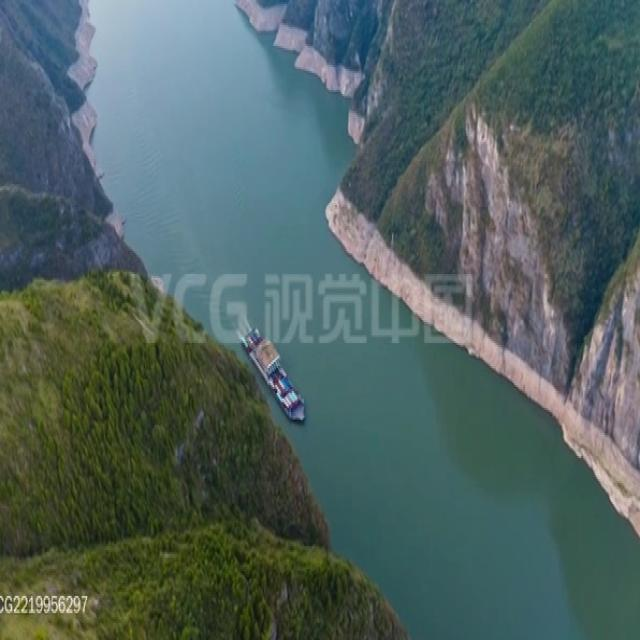cargoship: (241, 319, 308, 422)
